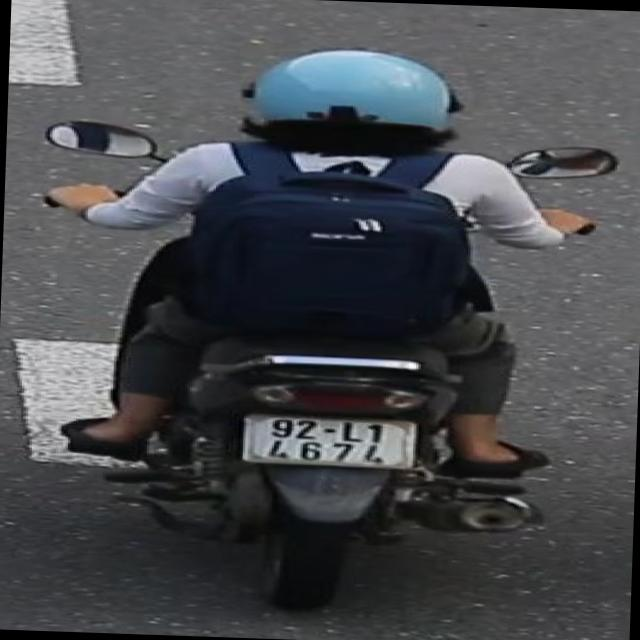LP: (233, 406, 428, 472)
helmet: (230, 41, 471, 158)
